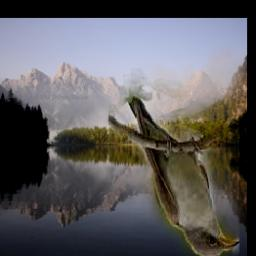Cuckoo: (108, 68, 239, 256)
